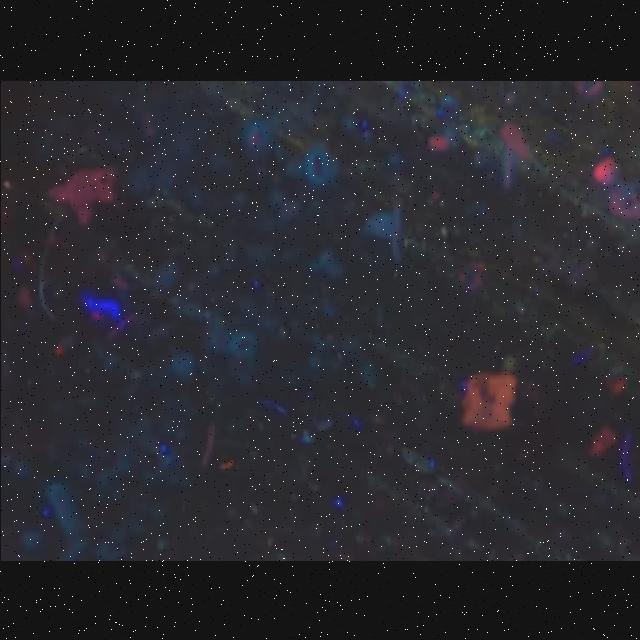Fragment: (462, 371, 516, 430)
